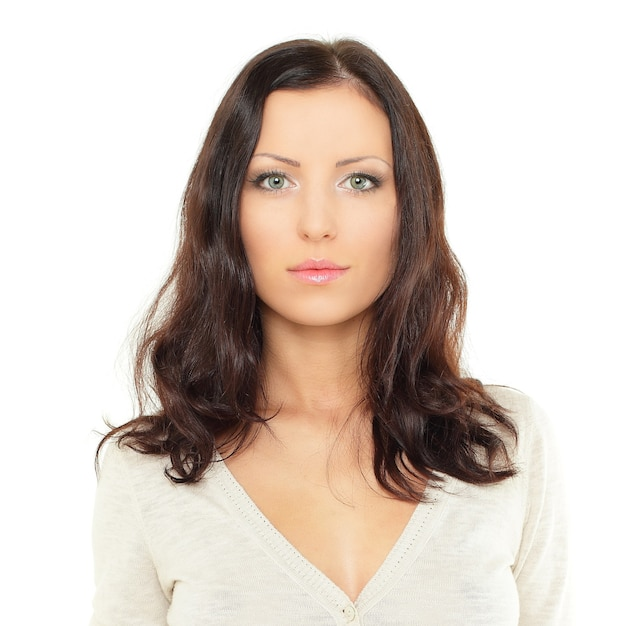young: (172, 25, 449, 355)
